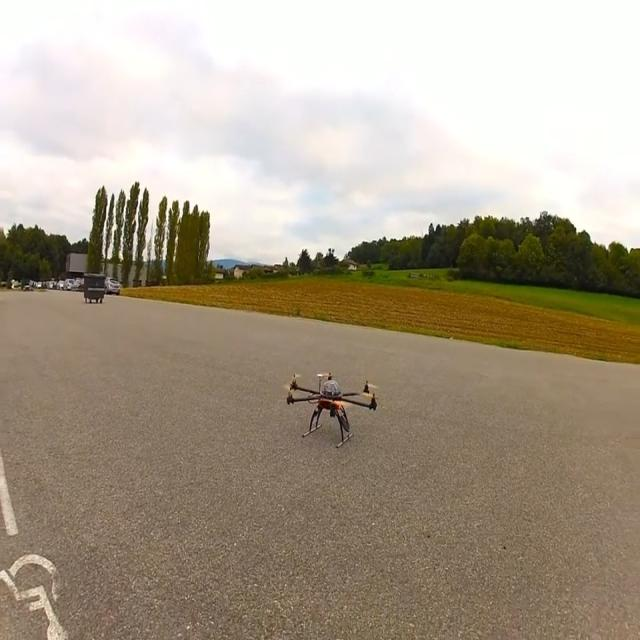drone: (286, 371, 380, 448)
